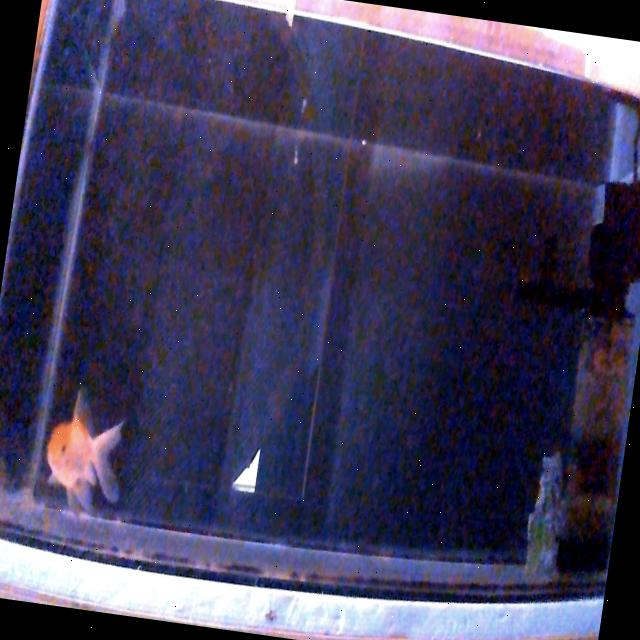fish: (38, 387, 133, 518)
